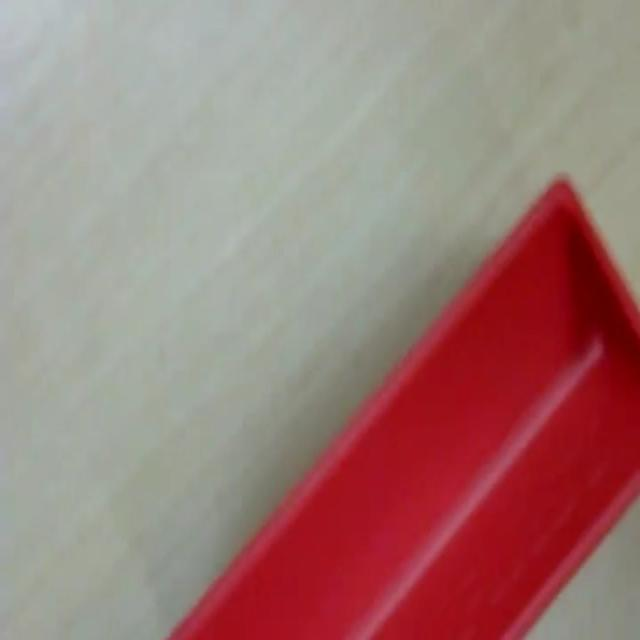red_block: (164, 171, 638, 637)
